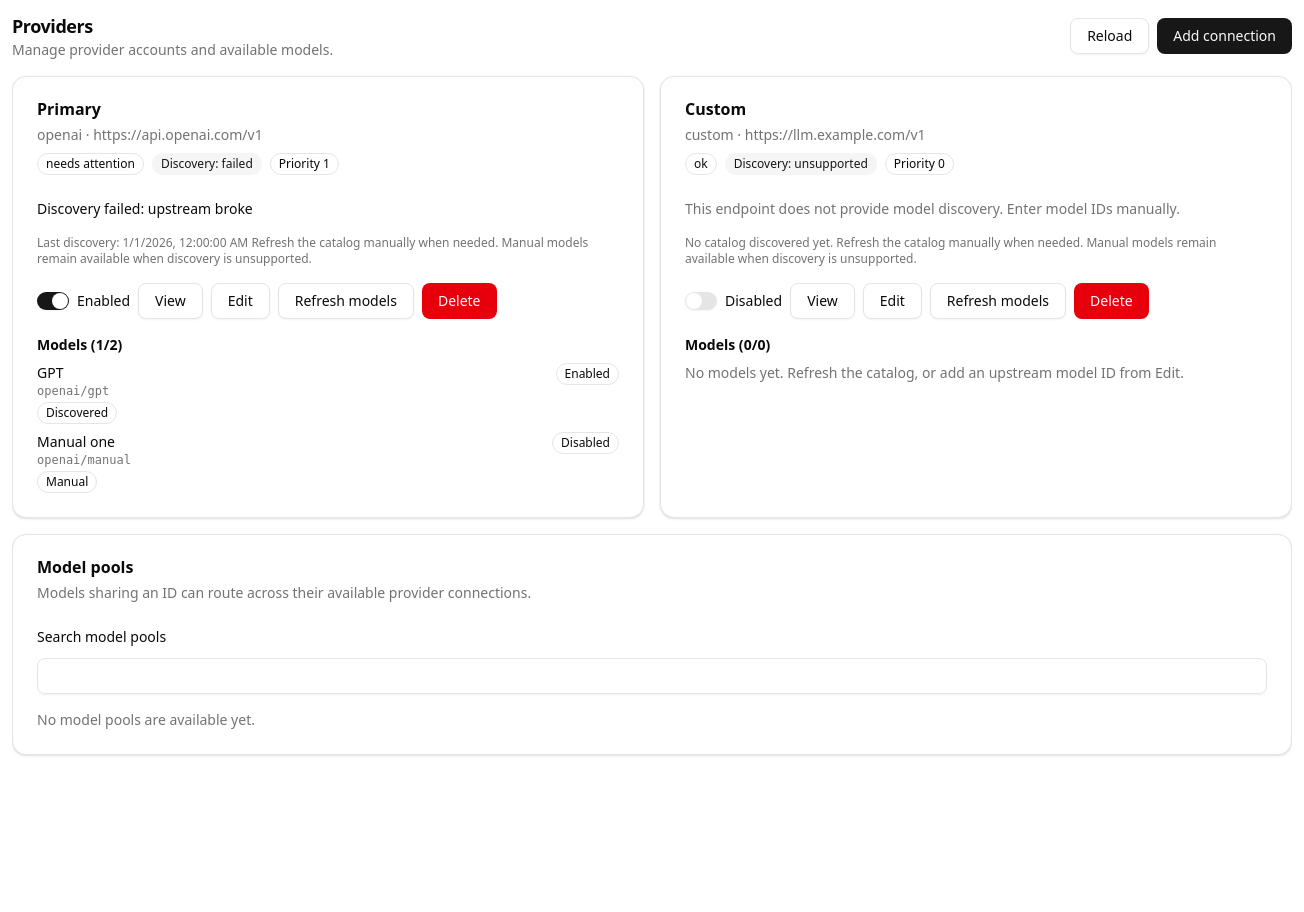
Test: ProvidersPanel confirmations › deletes a connection after confirmation
Expected: the text "Primary" is shown, [37,98,101,120]
Click the button "Delete" below "Last discovery: 1/1/2026, 12:00:00 AM": (459,301) [422,283,496,319]
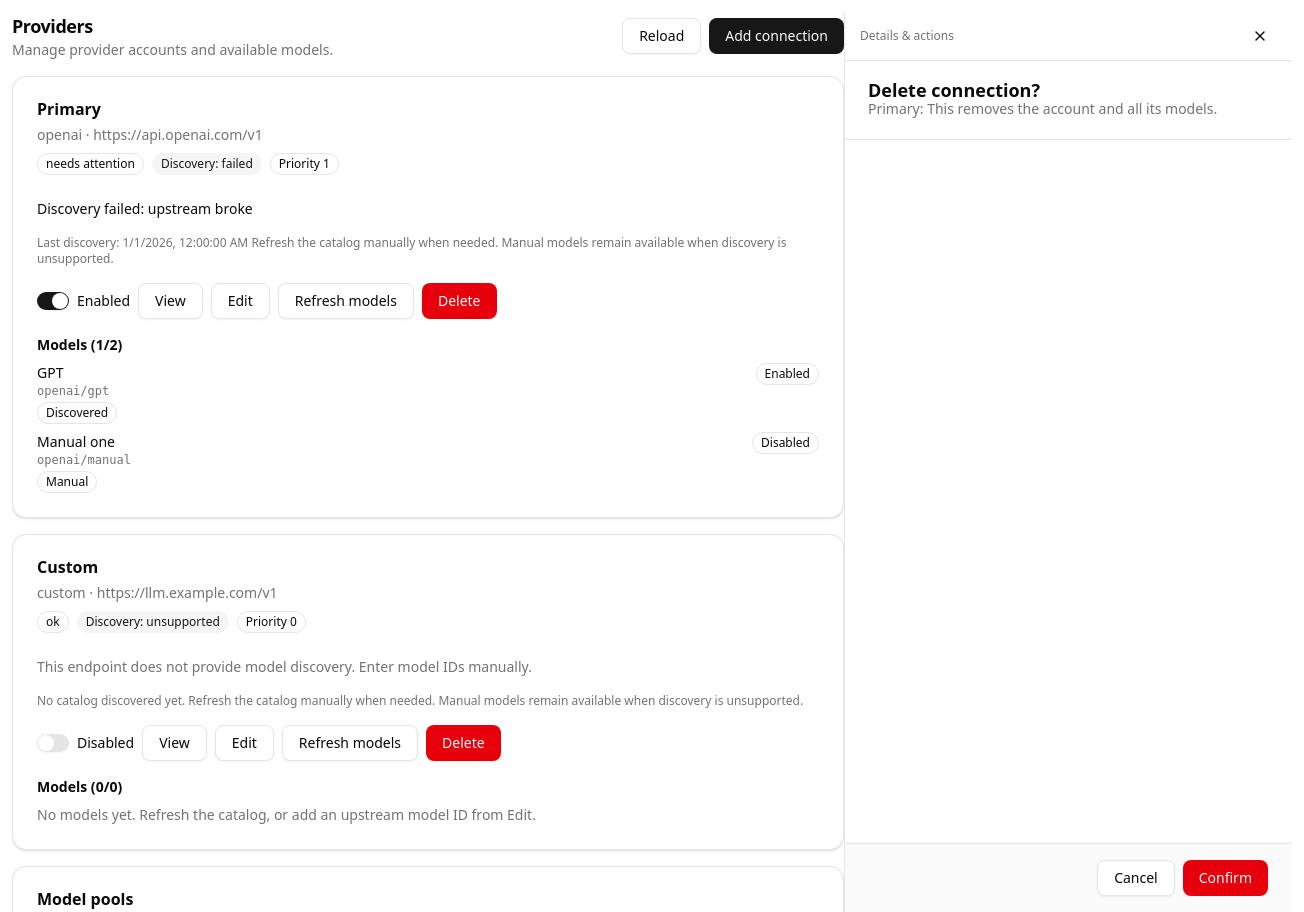
Result: the heading "Delete connection?" is shown at [868,78,1040,102]
Result: the text "Primary: This removes the account and all its models." is shown at [868,99,1217,119]
Click the button "Confirm": (1225,878) [1183,860,1268,896]
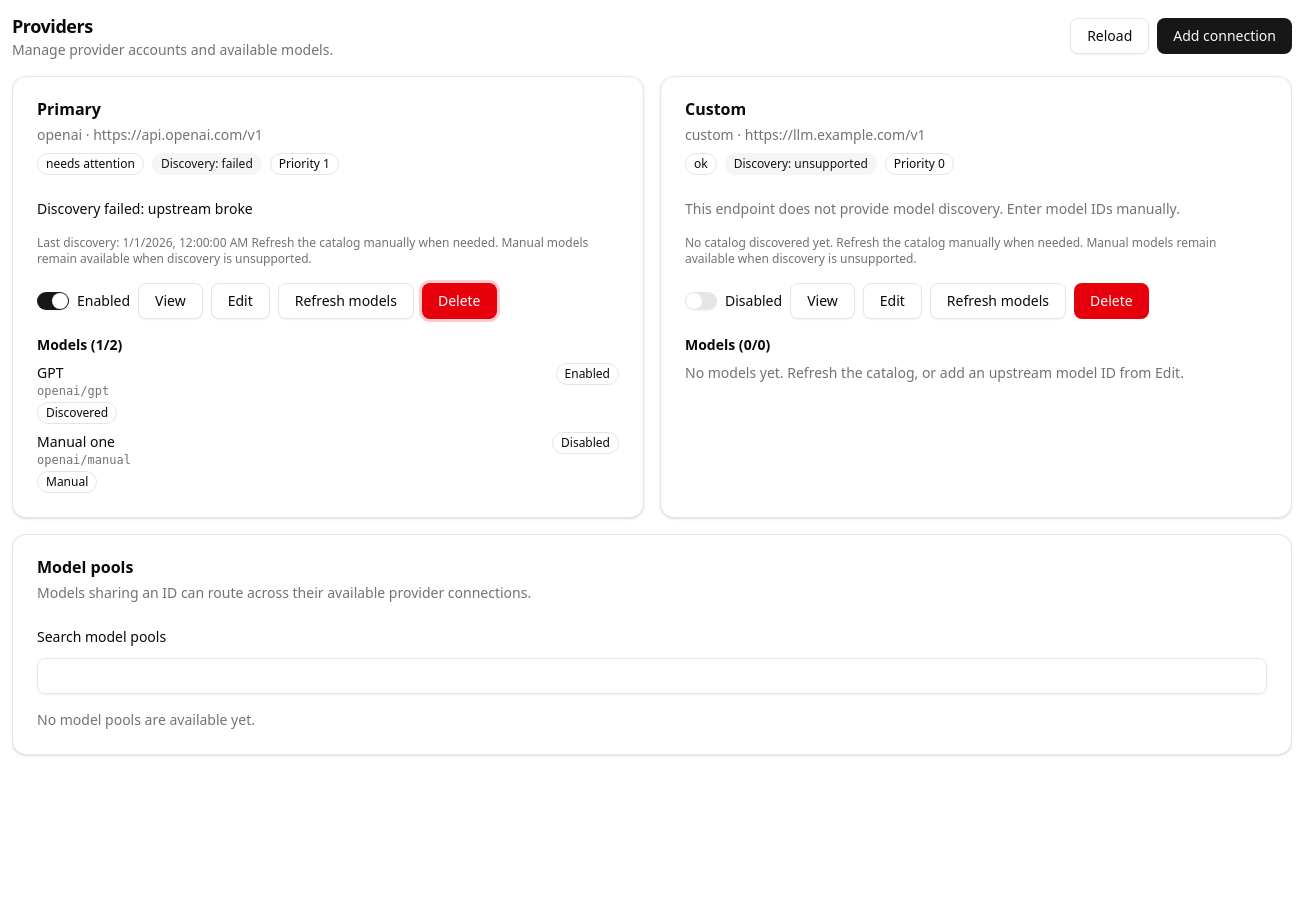
Result: the heading "Delete connection?" is gone
